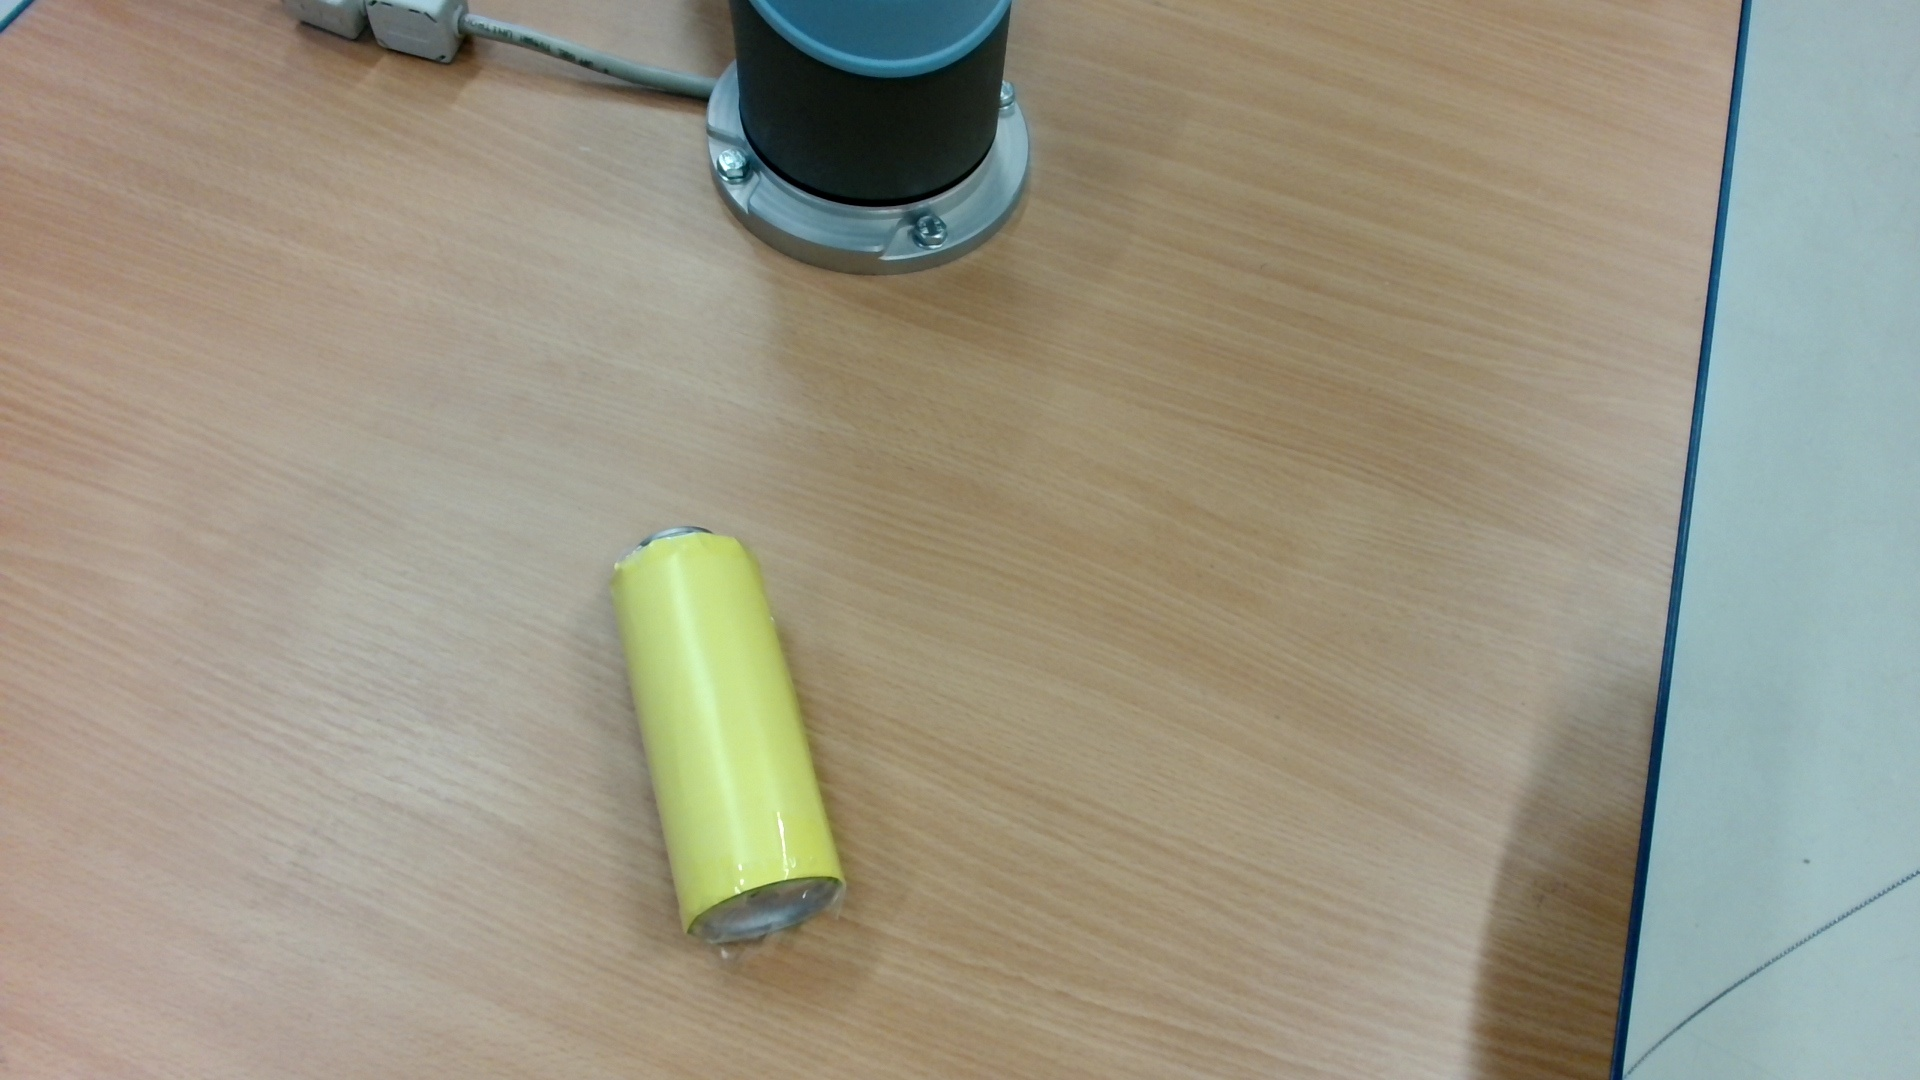Cylinder: (603, 512, 865, 952)
